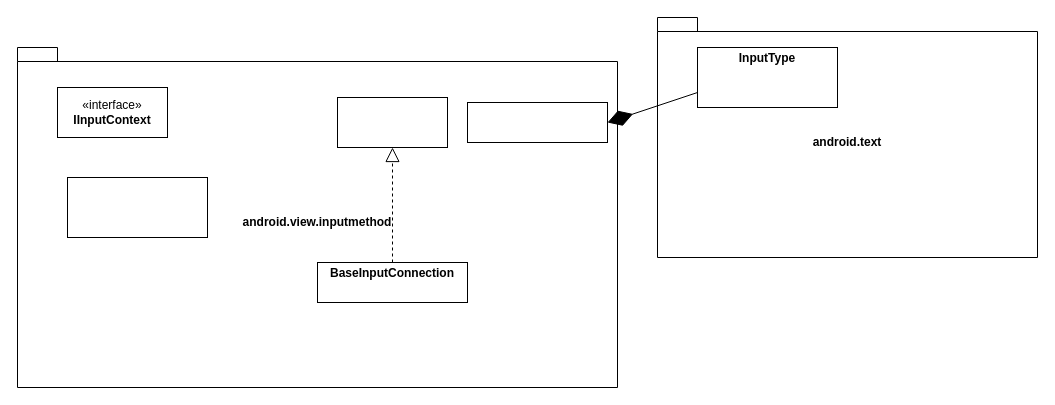
This 1055x405 diagram has some shape labels left out. Here are the shapes that lost their labels. From the top down, the centre of each, then its label:
At pixel 392 122: "«interface» InputConnection".
At pixel 537 122: "EditorInfo".
At pixel 137 207: "InputMethodManager".
